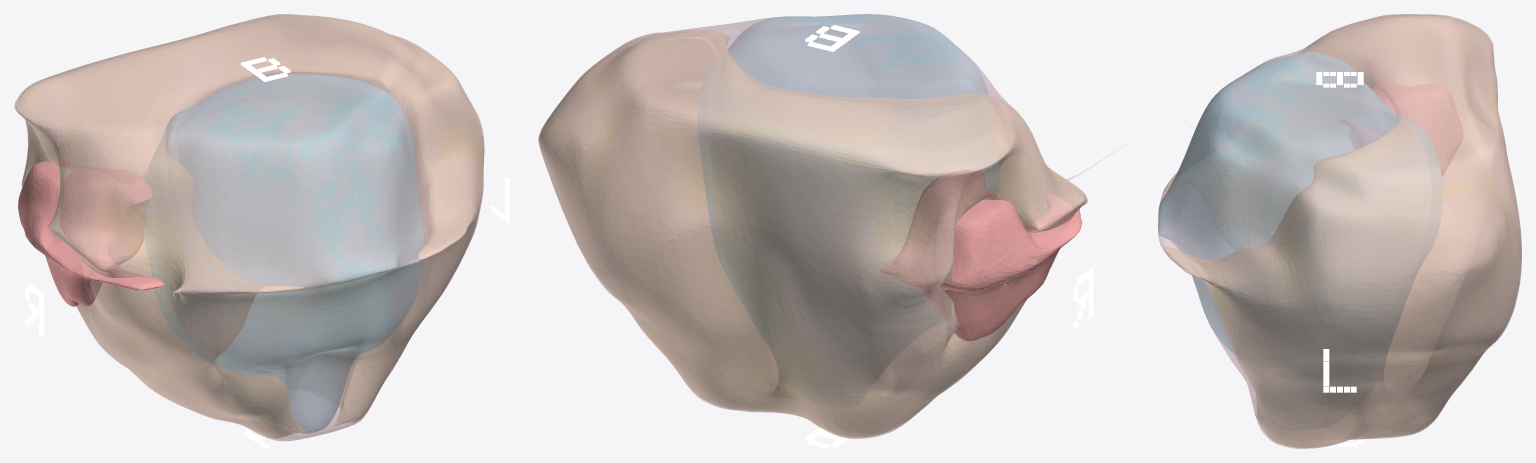
3 renders of one model, left to right at view 1: azimuth 30°, elevation 25°; view 2: azimuth 150°, elevation 25°; view 3: azimuth 270°, elevation 25°, orthographic. The views are drawn at different scales.
Visible parts, largest first — view 1: prostate_gland, peripheral_zone, transition_zone, lesion_01, pv_ar_marker_B, pv_ar_marker_R; view 2: prostate_gland, peripheral_zone, transition_zone, lesion_01, pv_ar_marker_B, pv_ar_marker_R; view 3: prostate_gland, peripheral_zone, transition_zone, lesion_01, pv_ar_marker_B, pv_ar_marker_L.
Boxes of the visible parts, bbox=[...] form: prostate_gland: bbox=[14, 14, 484, 441]; peripheral_zone: bbox=[16, 15, 483, 438]; transition_zone: bbox=[141, 74, 423, 433]; lesion_01: bbox=[18, 159, 164, 306]; pv_ar_marker_B: bbox=[240, 57, 290, 81]; pv_ar_marker_R: bbox=[25, 283, 43, 337]; prostate_gland: bbox=[538, 14, 1126, 438]; peripheral_zone: bbox=[539, 30, 1086, 436]; transition_zone: bbox=[697, 14, 999, 344]; lesion_01: bbox=[880, 170, 1082, 341]; pv_ar_marker_B: bbox=[805, 25, 859, 51]; pv_ar_marker_R: bbox=[1073, 268, 1093, 329]; prostate_gland: bbox=[1158, 14, 1521, 448]; peripheral_zone: bbox=[1163, 15, 1521, 447]; transition_zone: bbox=[1158, 52, 1442, 353]; lesion_01: bbox=[1338, 80, 1462, 176]; pv_ar_marker_B: bbox=[1316, 72, 1363, 87]; pv_ar_marker_L: bbox=[1323, 349, 1356, 392].
Bounding box in the file's own units: 0.0678 × 0.051 × 0.0466.
